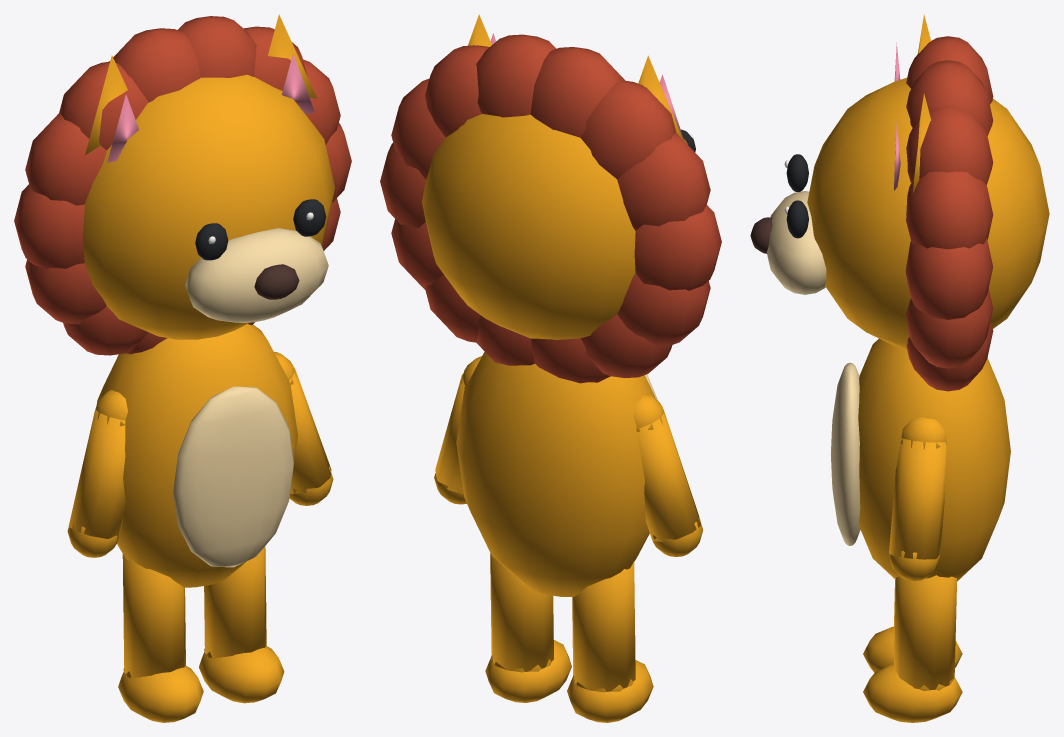
The model's file is african-lion.glb.
3 renders of one model, left to right at view 1: azimuth 30°, elevation 25°; view 2: azimuth 150°, elevation 25°; view 3: azimuth 270°, elevation 25°, orthographic. The views are drawn at different scales.
Visible parts, largest first — view 1: Asset.african-lion; view 2: Asset.african-lion; view 3: Asset.african-lion.
Boxes of the visible parts, <box> form: Asset.african-lion: <box>14,14,351,722</box>; Asset.african-lion: <box>380,14,721,722</box>; Asset.african-lion: <box>750,14,1049,722</box>.
Bounding box in the file's own units: 2.28 × 4.43 × 1.86.
